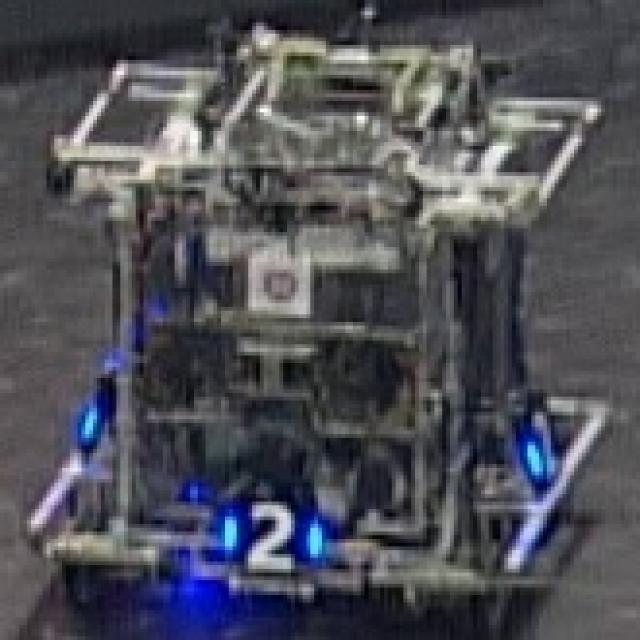B2: (217, 492, 330, 575), (510, 393, 576, 483)
